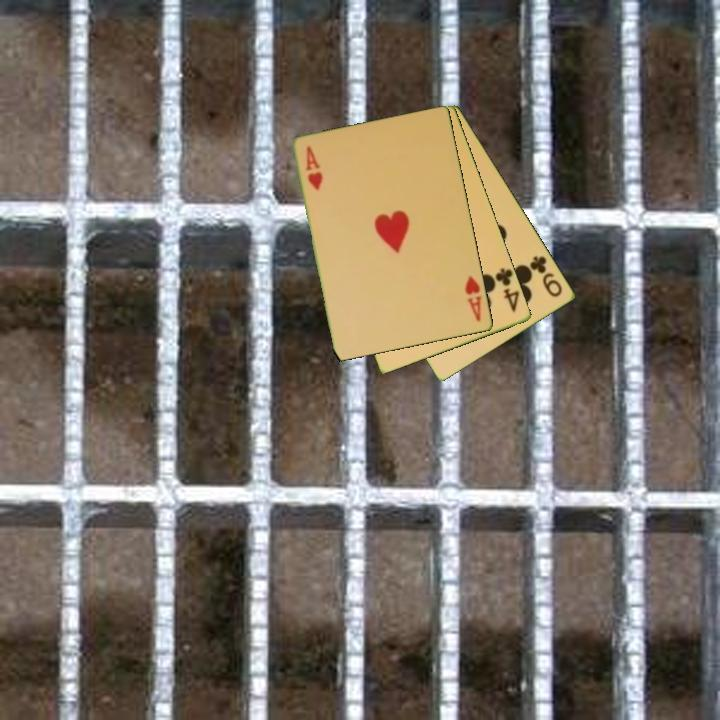4c: (492, 264, 522, 315)
9c: (526, 252, 566, 300)
Ah: (462, 273, 485, 325), (302, 143, 325, 194)
